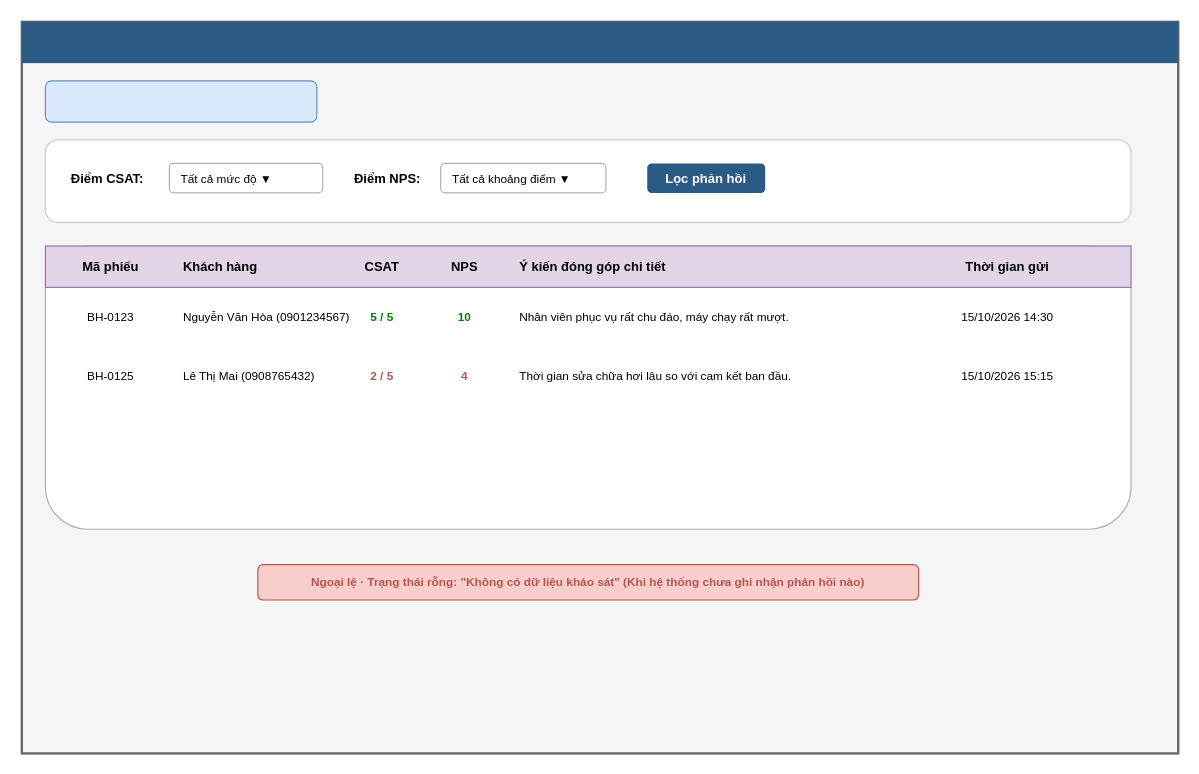
Some shapes in this 1199 by 774 pixel diagram are drawn without their labels. Here are the shapes that lost their labels. From the top down, the centre of each, then its label:
At (599,42): "Mekong Mobile · Smart CRM (Nhân viên CSKH)".
At (180,101): "M2 · Danh sách phản hồi khảo sát".
